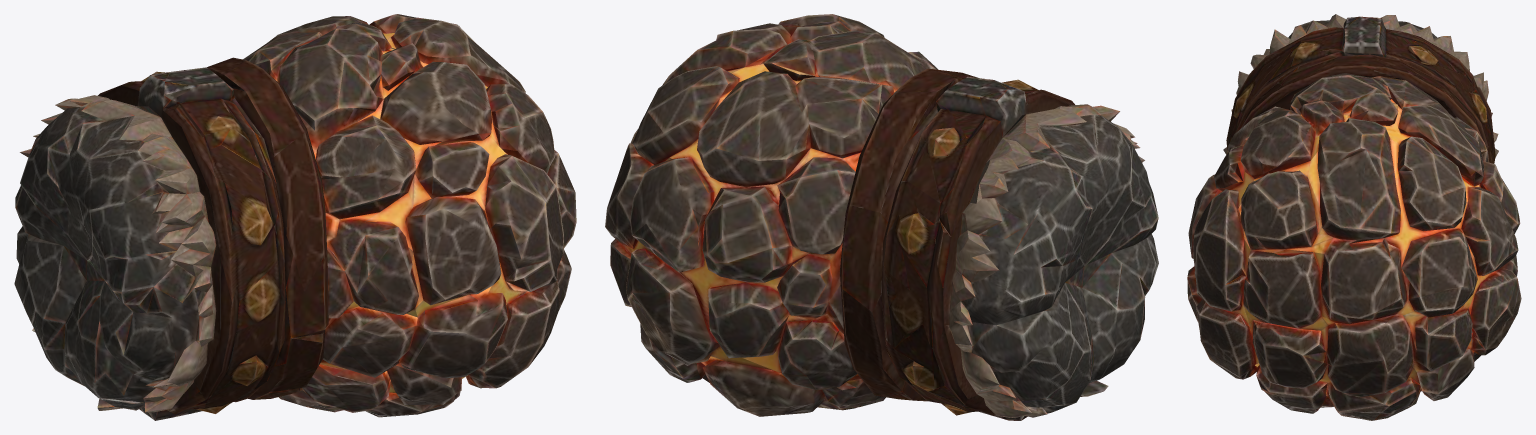
File: rockfist_l.glb
3 renders of one model, left to right at view 1: azimuth 30°, elevation 25°; view 2: azimuth 150°, elevation 25°; view 3: azimuth 270°, elevation 25°, orthographic. The views are drawn at different scales.
Bounding box in the file's own units: 0.5237 × 0.3789 × 0.3784.
1 material, 1 textured.
